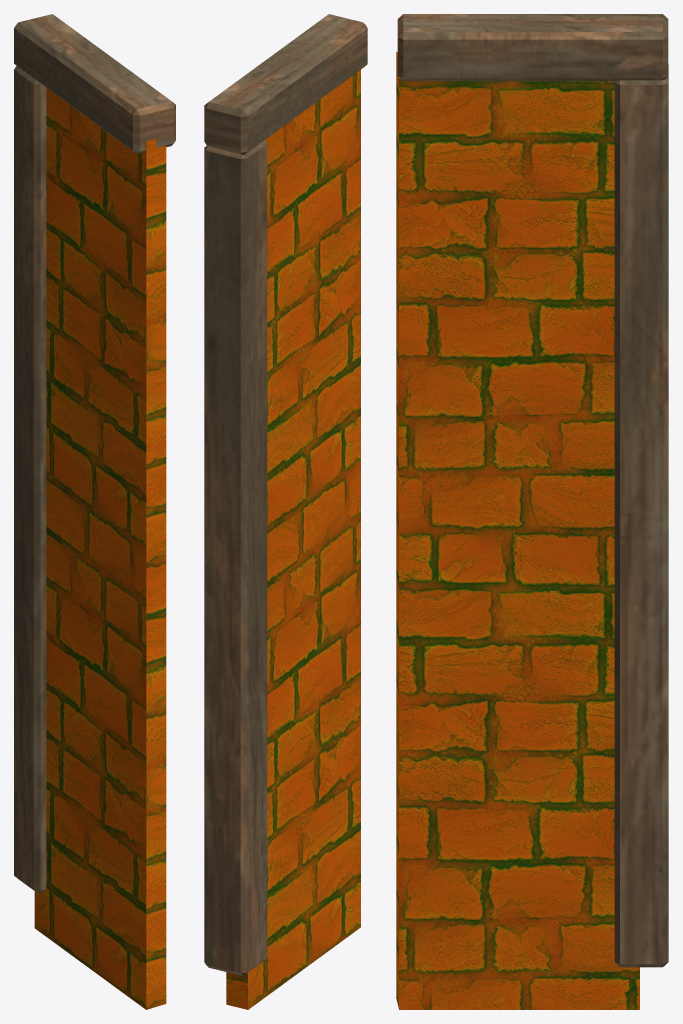
File: SM_wall_03.fbx
The picture shows the model from 3 angles, left to right: view 1: azimuth 30°, elevation 25°; view 2: azimuth 150°, elevation 25°; view 3: azimuth 270°, elevation 25°; orthographic projection. The views are drawn at different scales.
Visible parts, largest first — view 1: SM_wall_03_LOD0; view 2: SM_wall_03_LOD0; view 3: SM_wall_03_LOD0.
Part boxes in pixels (x1,y1,x2,y2): SM_wall_03_LOD0: [14, 14, 175, 1009]; SM_wall_03_LOD0: [204, 14, 367, 1009]; SM_wall_03_LOD0: [396, 14, 668, 1009].
Bounding box in the file's own units: 20 × 101 × 400.
2 materials, 2 textured.
